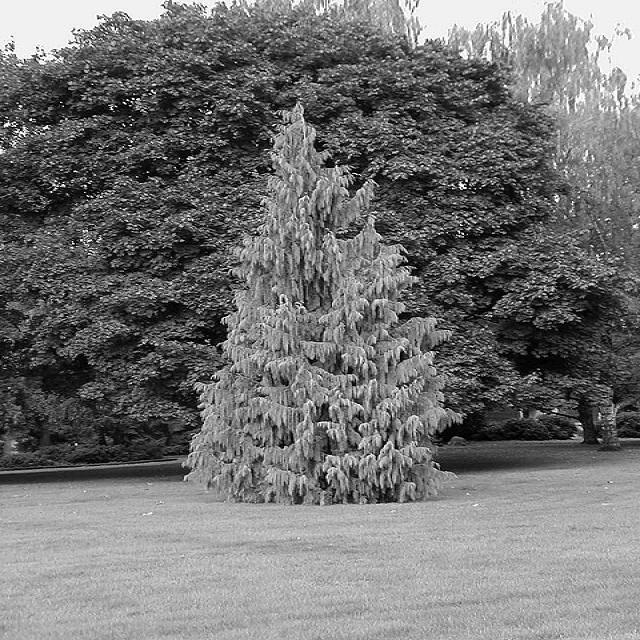Cupressus nootkatensis: (200, 97, 450, 520)
